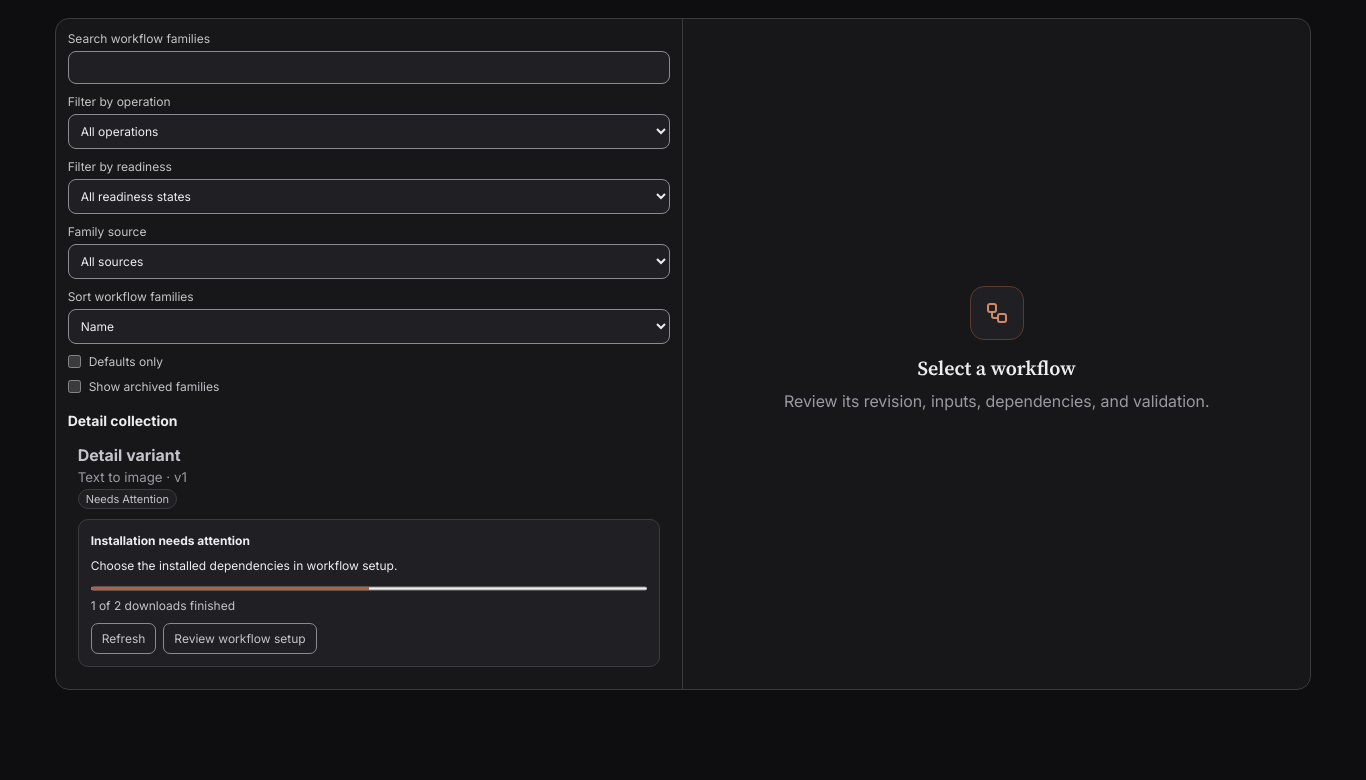
Test: opens the workflow setup from its attention message without queuing another download
(page scrolled)
Expected: the heading "Detail collection" is shown, [68,412,178,429]
Click the button "Review workflow setup": (240, 638) [163,623,317,654]
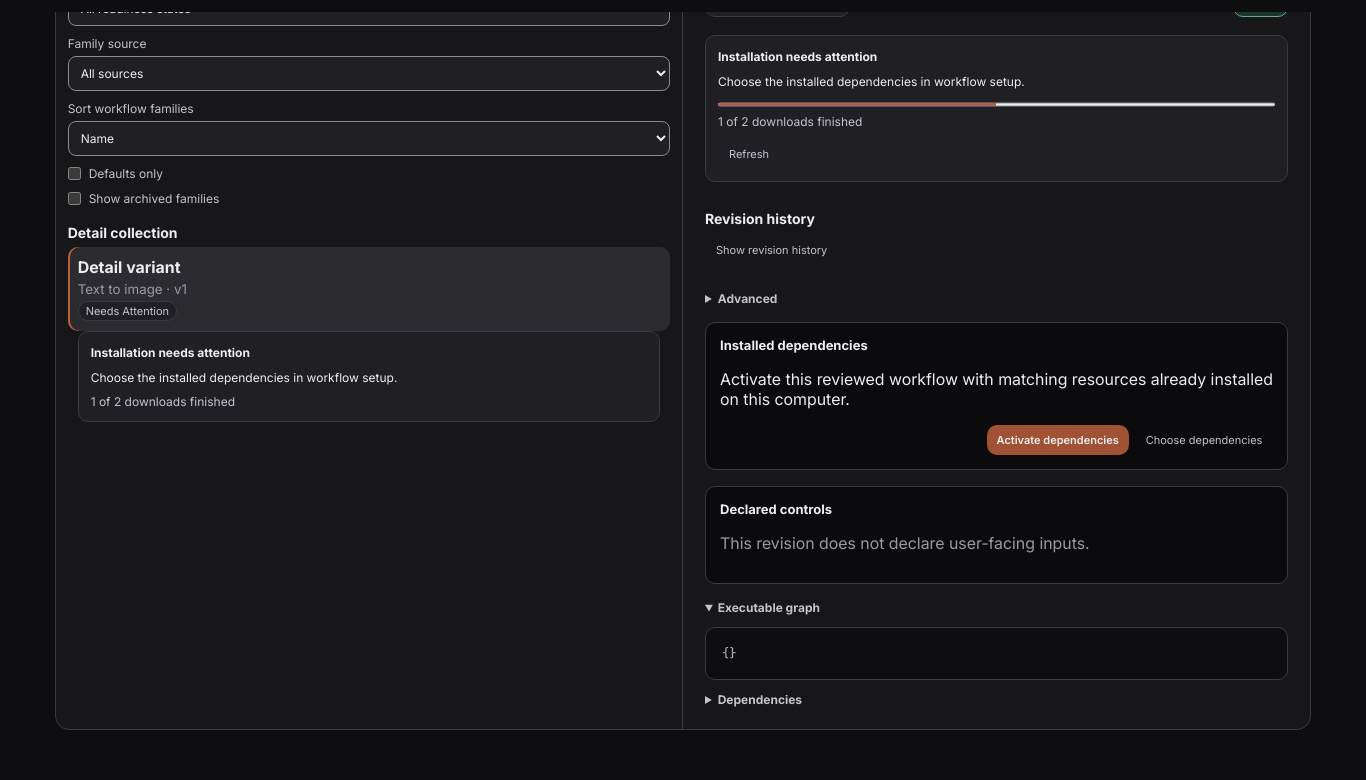
Expected: the element named "Workflow dependencies" is shown, [705,322,1288,470]
